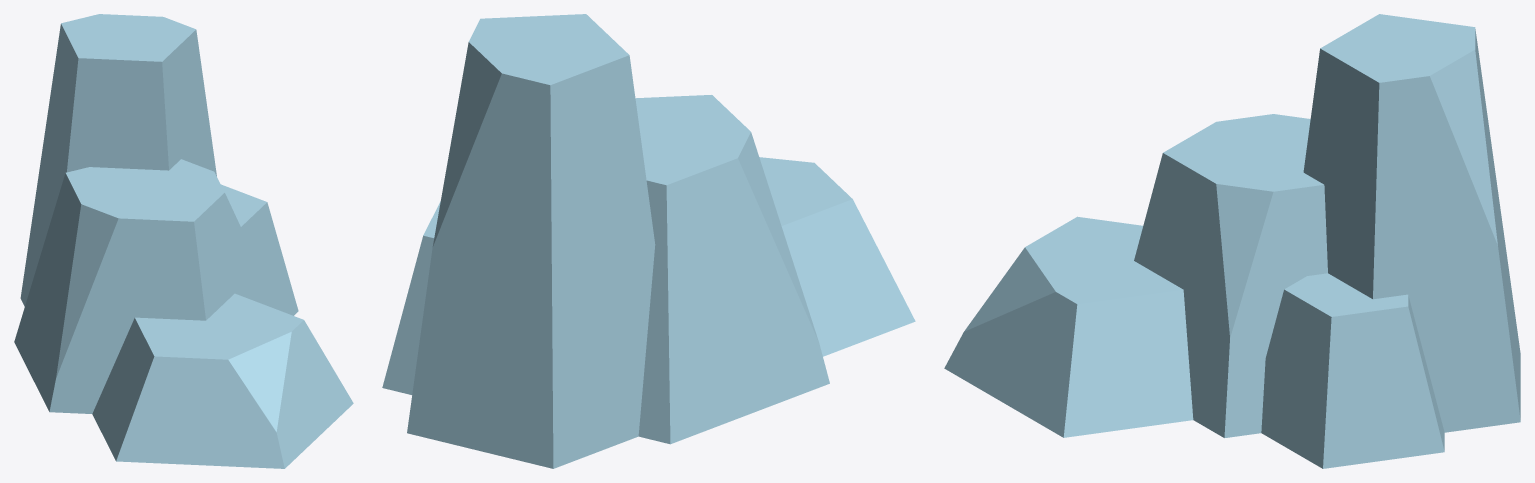
Rendered from rockWide.dae.
3 renders of one model, left to right at view 1: azimuth 30°, elevation 25°; view 2: azimuth 150°, elevation 25°; view 3: azimuth 270°, elevation 25°, orthographic. The views are drawn at different scales.
Parts seen in each view (by area): view 1: rockWide; view 2: rockWide; view 3: rockWide.
Part boxes in pixels (x1,y1,x2,y2): rockWide: (14, 14, 353, 468); rockWide: (382, 14, 915, 468); rockWide: (944, 14, 1520, 468).
Bounding box in the file's own units: 1.09 × 1.02 × 1.57.
